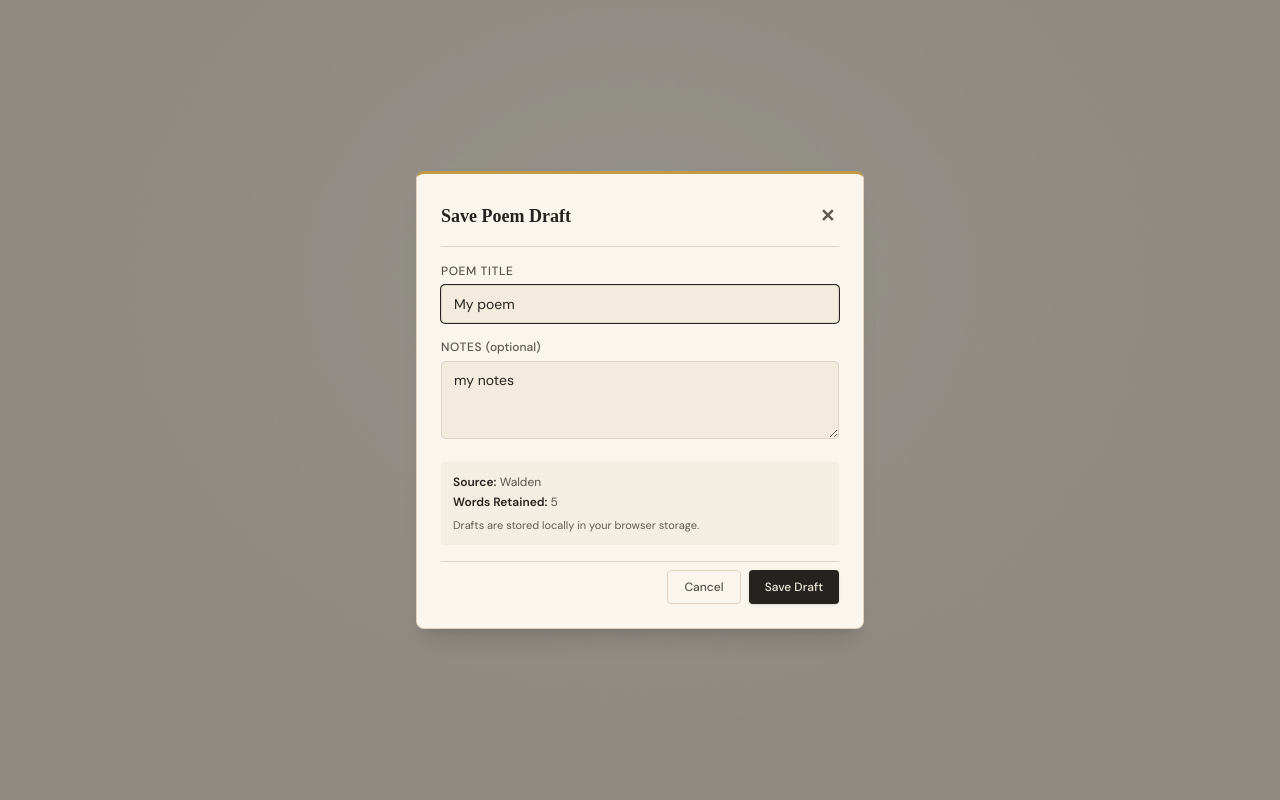
Test: the save form › shows a pop-up, and nothing inline, when the poem was changed somewhere else
Step 1. Click the button "Save Draft" → (794, 587), box 749,570 -> 839,604
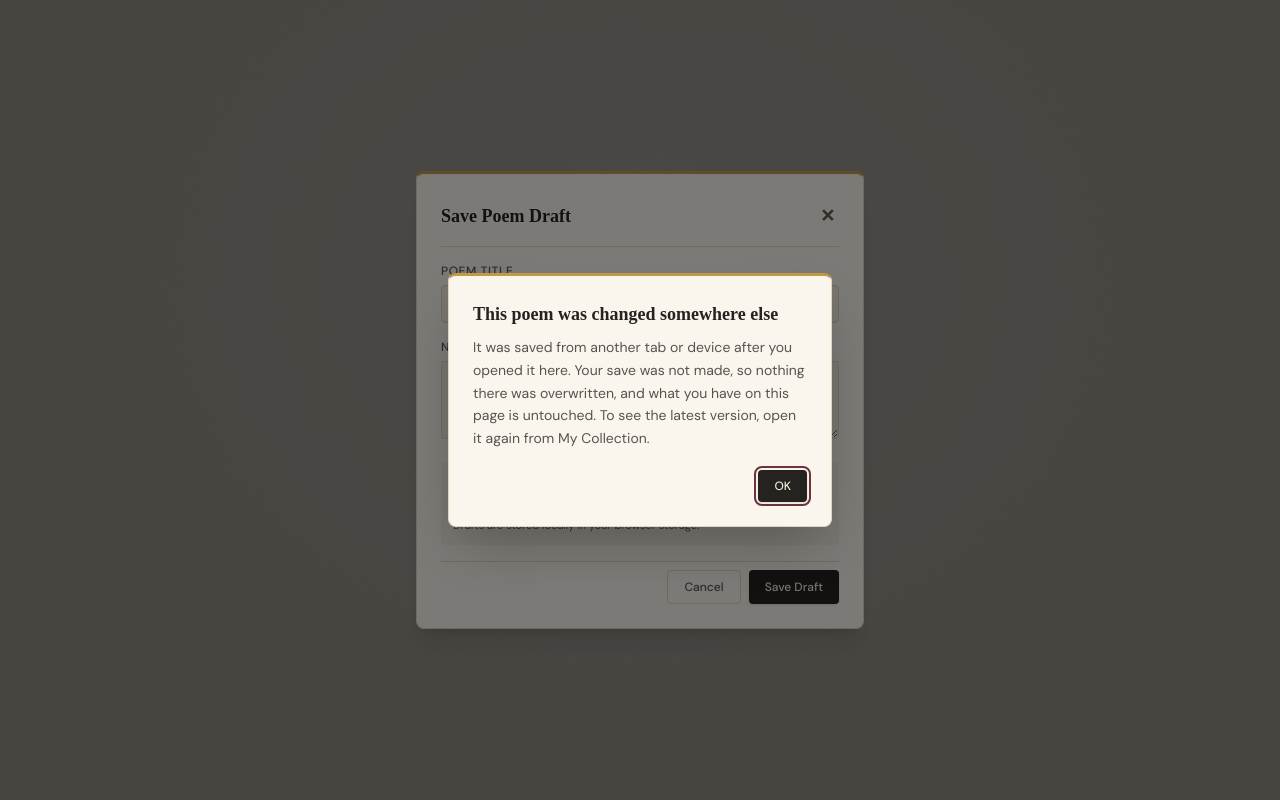
Check: the dialog that starts with "This poem was changed somewhere else" is shown, box 448,273 -> 832,527
Check: the heading "This poem was changed somewhere else" is shown, box 473,300 -> 807,328
